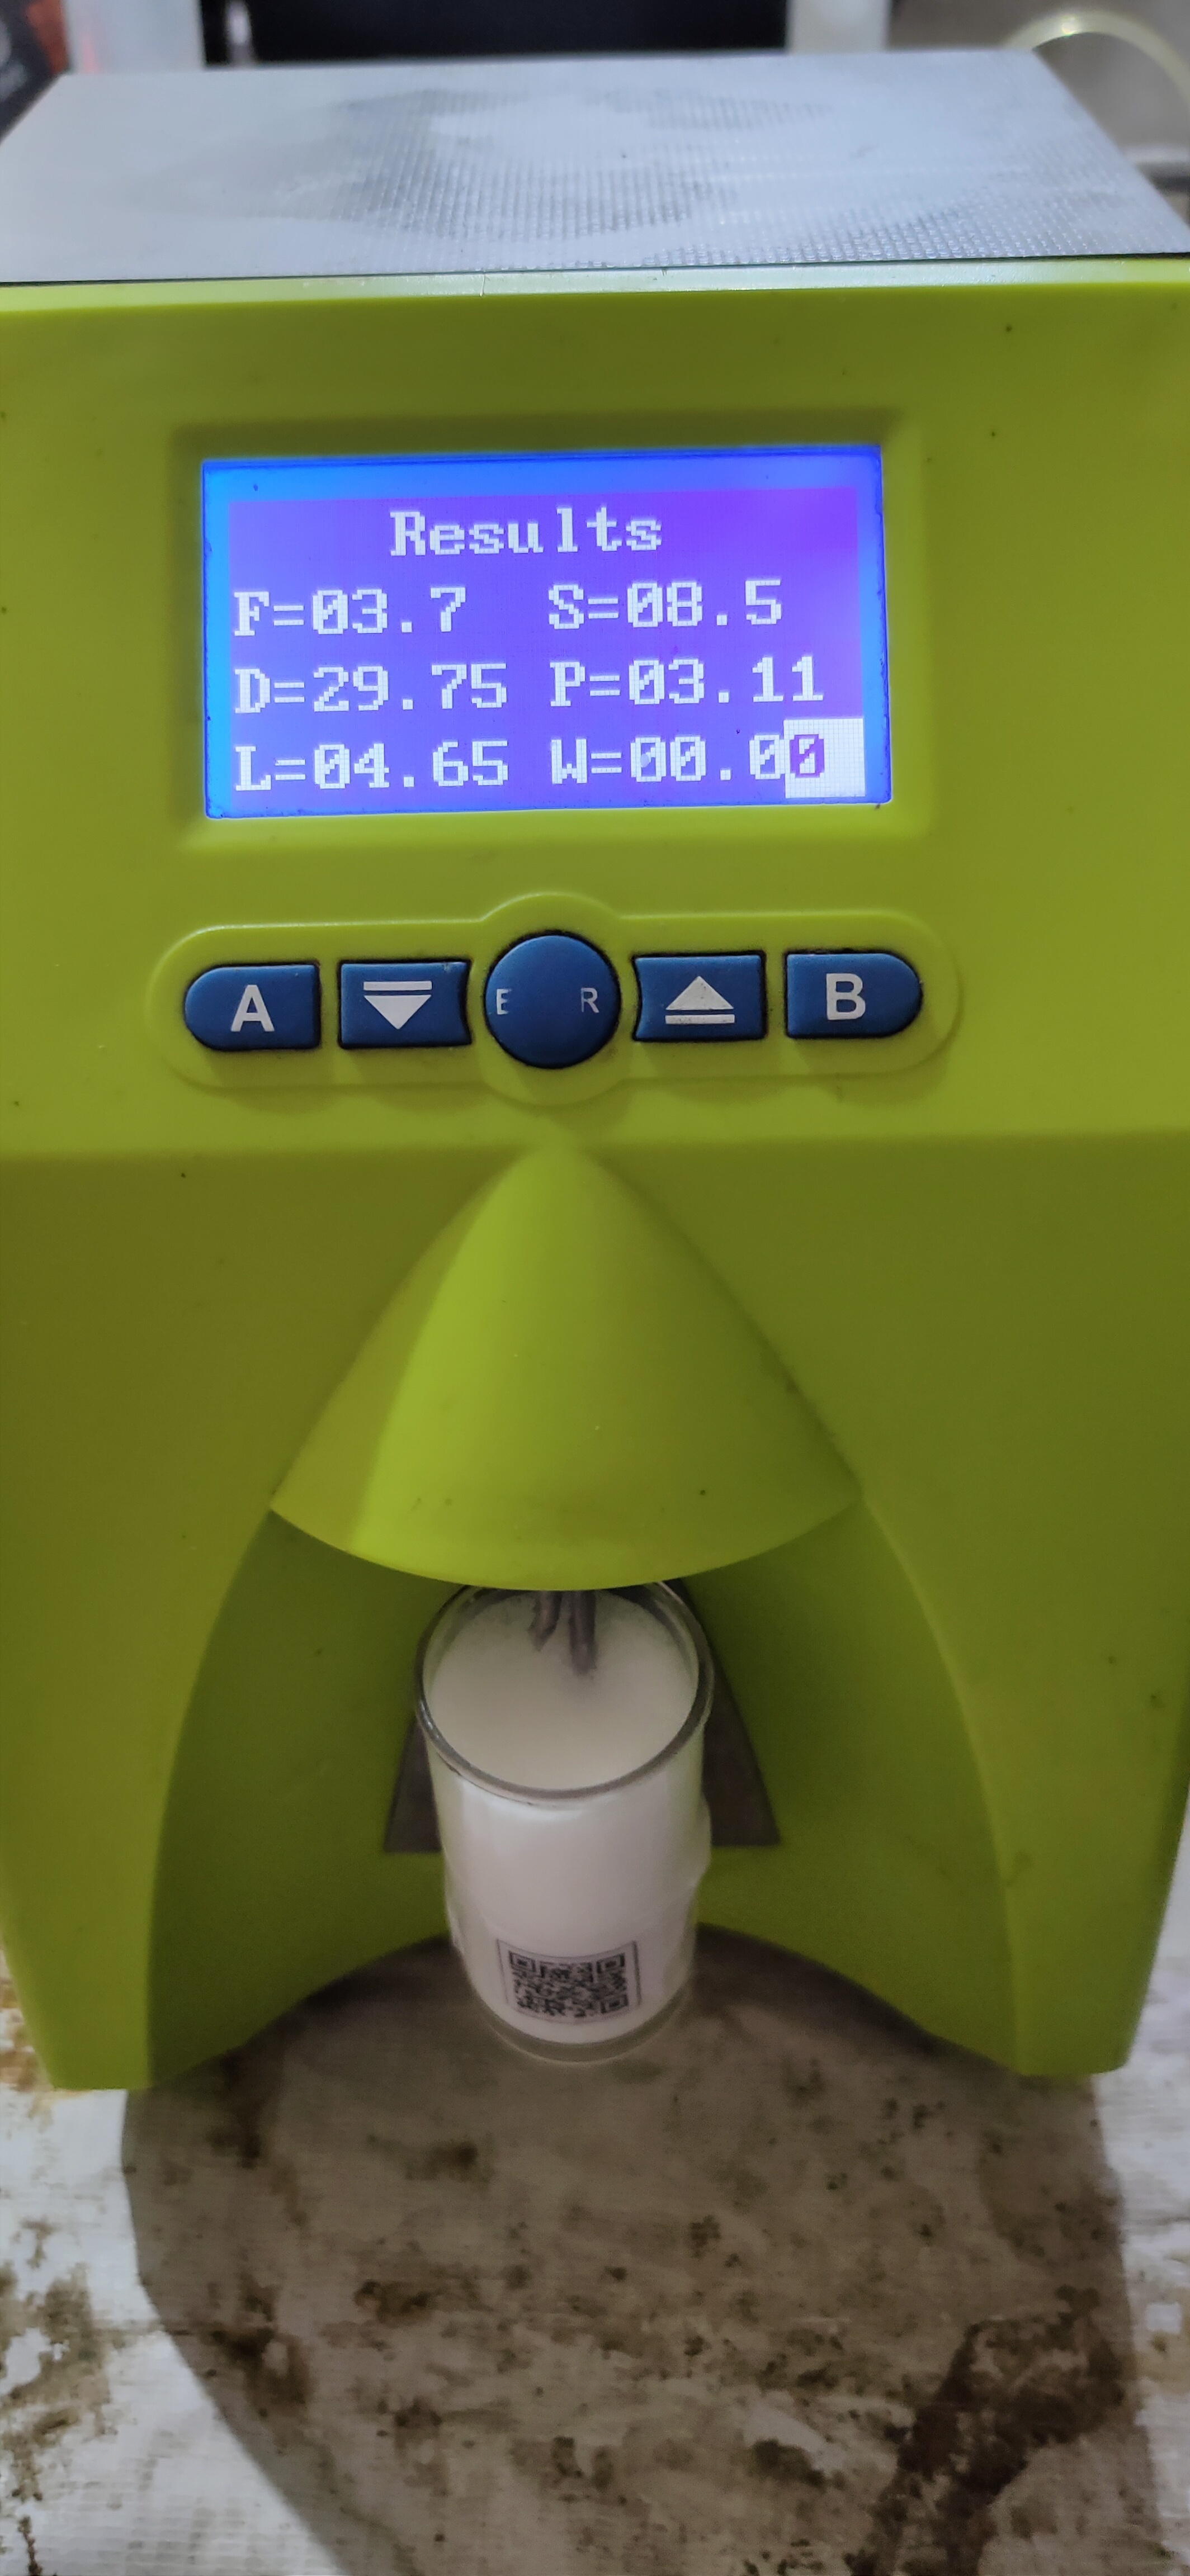lcd: (178, 449, 909, 839)
qr: (496, 1922, 649, 2042)
